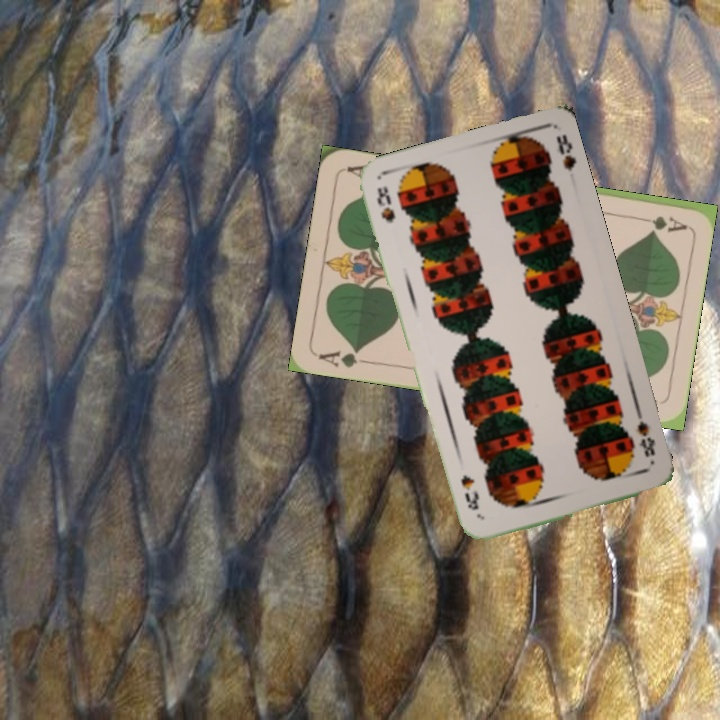GA: (315, 344, 374, 371), (629, 211, 688, 233)
S8: (632, 408, 658, 460), (372, 182, 398, 226)
